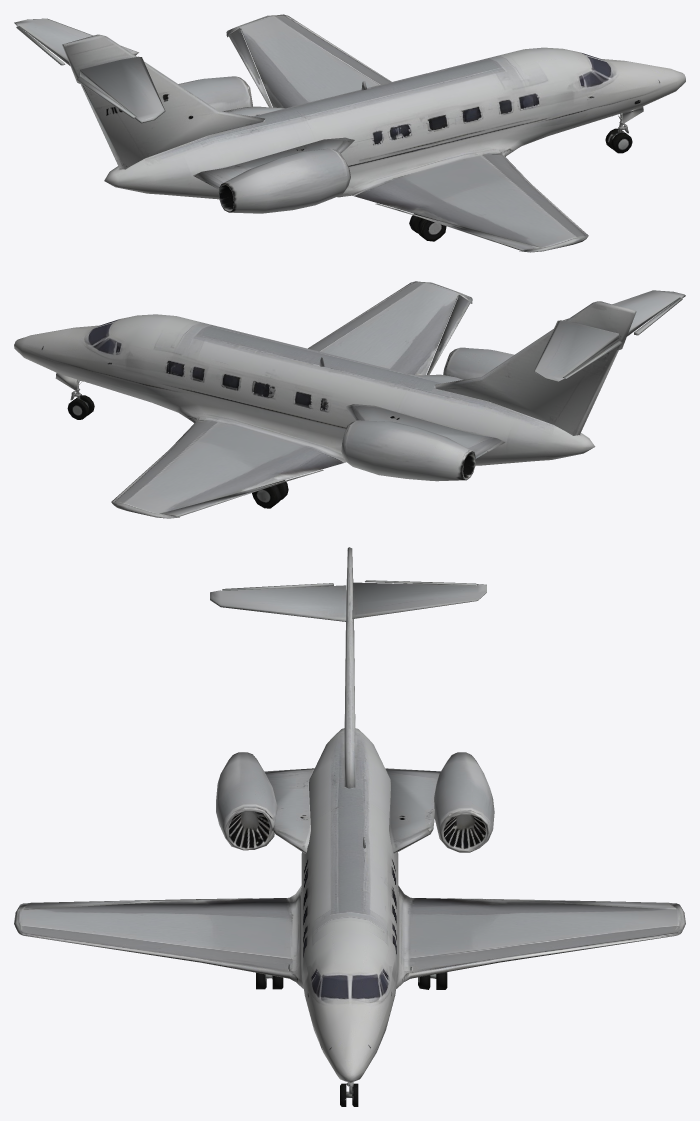
Rendered from jet.glb.
3 views of the same model, one above another, from view 1: azimuth 30°, elevation 25°; view 2: azimuth 150°, elevation 25°; view 3: azimuth 270°, elevation 25° (orthographic). The views are drawn at different scales.
Parts seen in each view (by area): view 1: tripo_node_82ca5e16-c049-440c-842f-cb365651c05a; view 2: tripo_node_82ca5e16-c049-440c-842f-cb365651c05a; view 3: tripo_node_82ca5e16-c049-440c-842f-cb365651c05a.
Part boxes in pixels (x1=…): tripo_node_82ca5e16-c049-440c-842f-cb365651c05a: x1=14, y1=14, x2=685, y2=252; tripo_node_82ca5e16-c049-440c-842f-cb365651c05a: x1=14, y1=281, x2=685, y2=518; tripo_node_82ca5e16-c049-440c-842f-cb365651c05a: x1=14, y1=547, x2=685, y2=1106.
Bounding box in the file's own units: 0.998 × 0.377 × 0.8574.
1 material, 1 textured.
